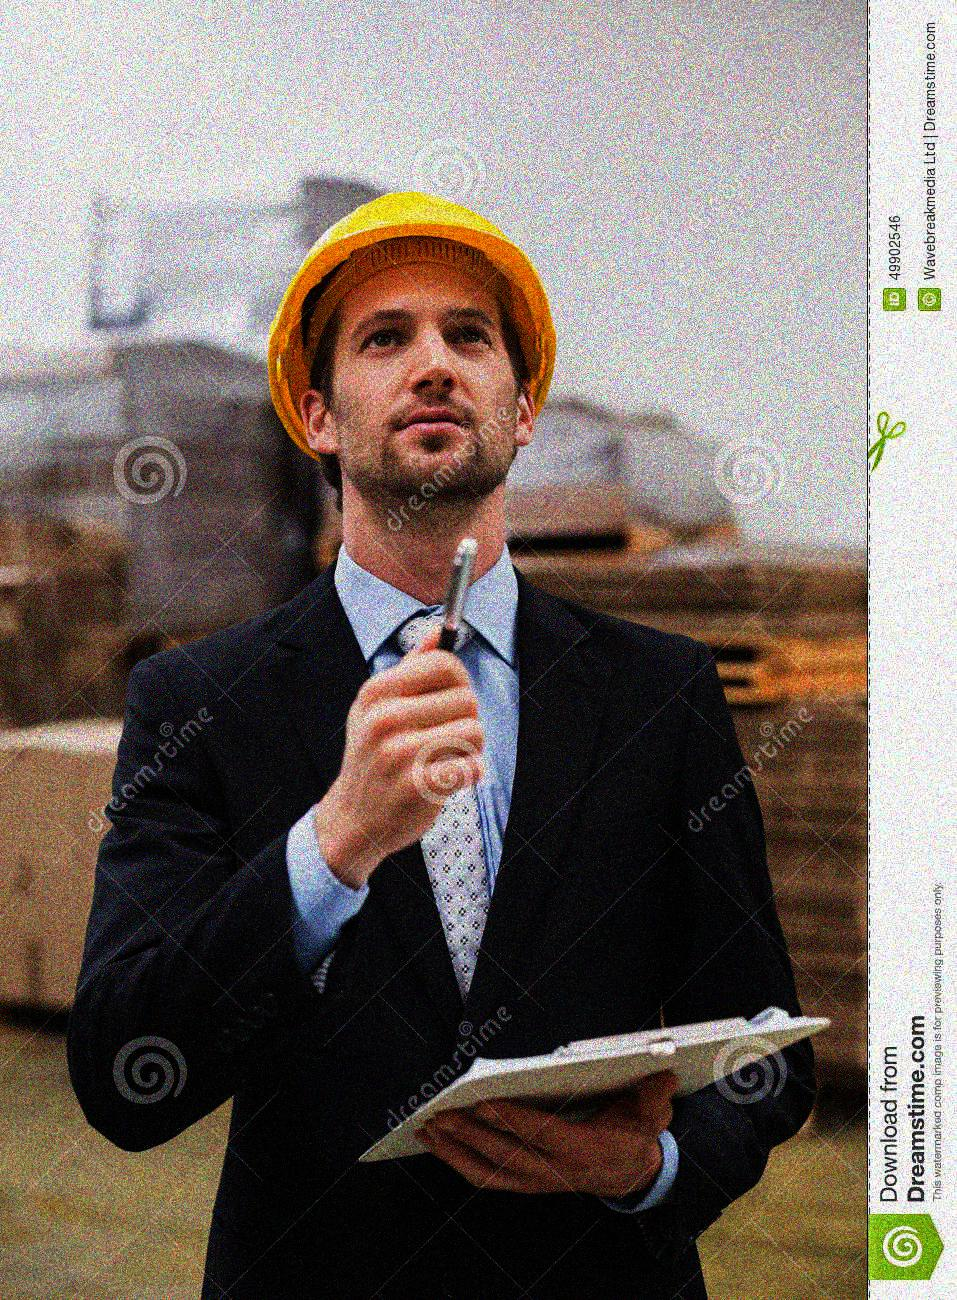helmet: (265, 188, 561, 501)
